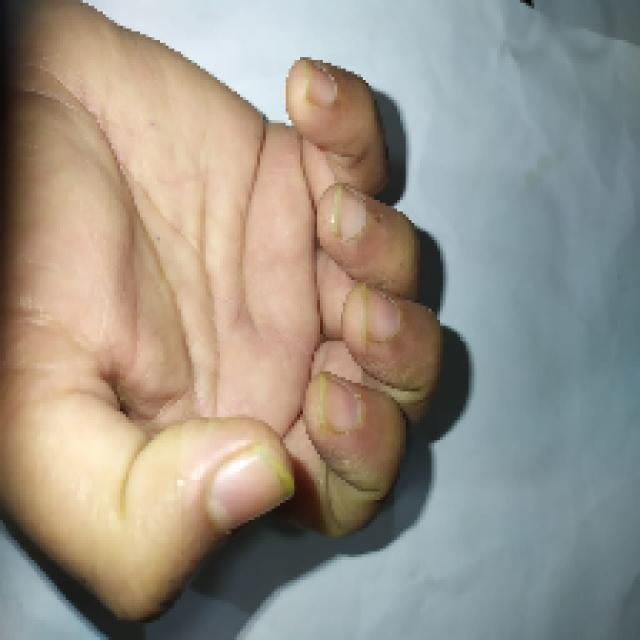Nail: (206, 445, 294, 533), (322, 378, 362, 434), (331, 185, 366, 240), (366, 289, 401, 341), (306, 61, 336, 106)
